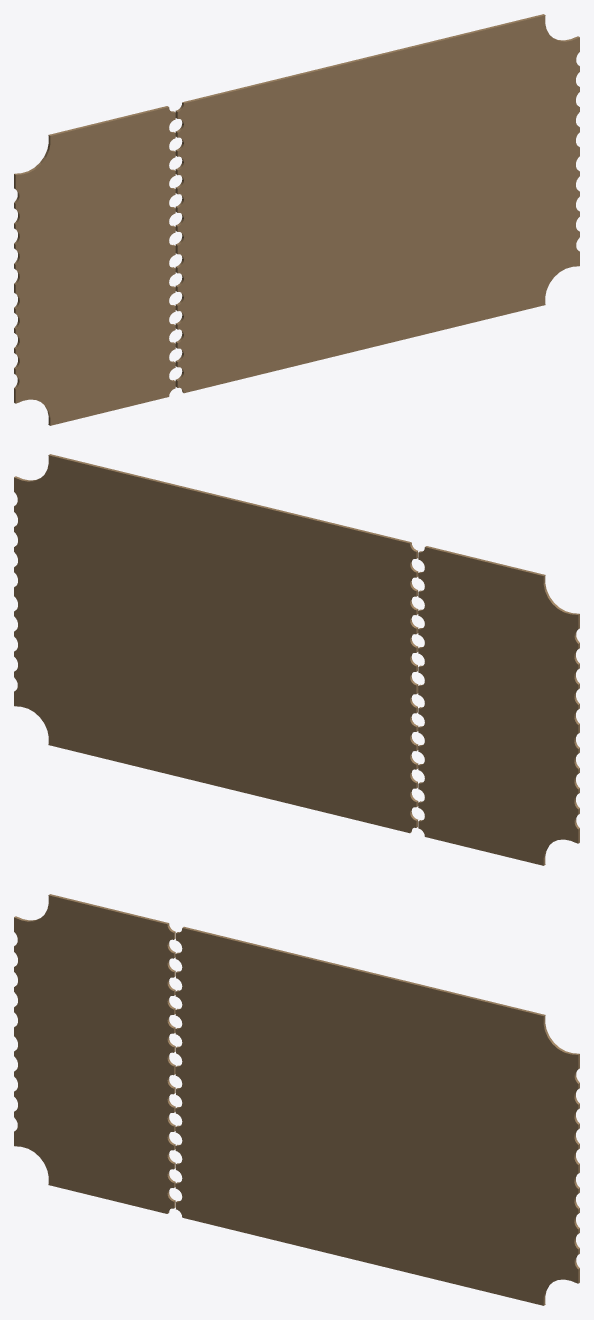
Rendered from ticket-bronze.glb.
The picture shows the model from 3 angles, top to bottom: view 1: azimuth 30°, elevation 25°; view 2: azimuth 150°, elevation 25°; view 3: azimuth 330°, elevation 25°; orthographic projection.
Parts seen in each view (by area): view 1: Ticket; view 2: Ticket; view 3: Ticket.
Part boxes in pixels (box(x1,y1,x2,y2)): Ticket: box(14, 14, 579, 425); Ticket: box(14, 454, 579, 865); Ticket: box(14, 894, 579, 1305).
Bounding box in the file's own units: 0.5084 × 0.2495 × 0.00265.
